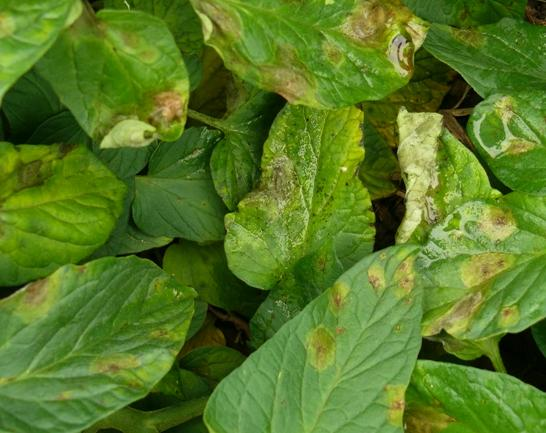Tomato Early blight leaf: (0, 245, 201, 427), (226, 98, 371, 323), (193, 0, 424, 99), (50, 0, 186, 154), (0, 150, 145, 288), (416, 191, 546, 340)
